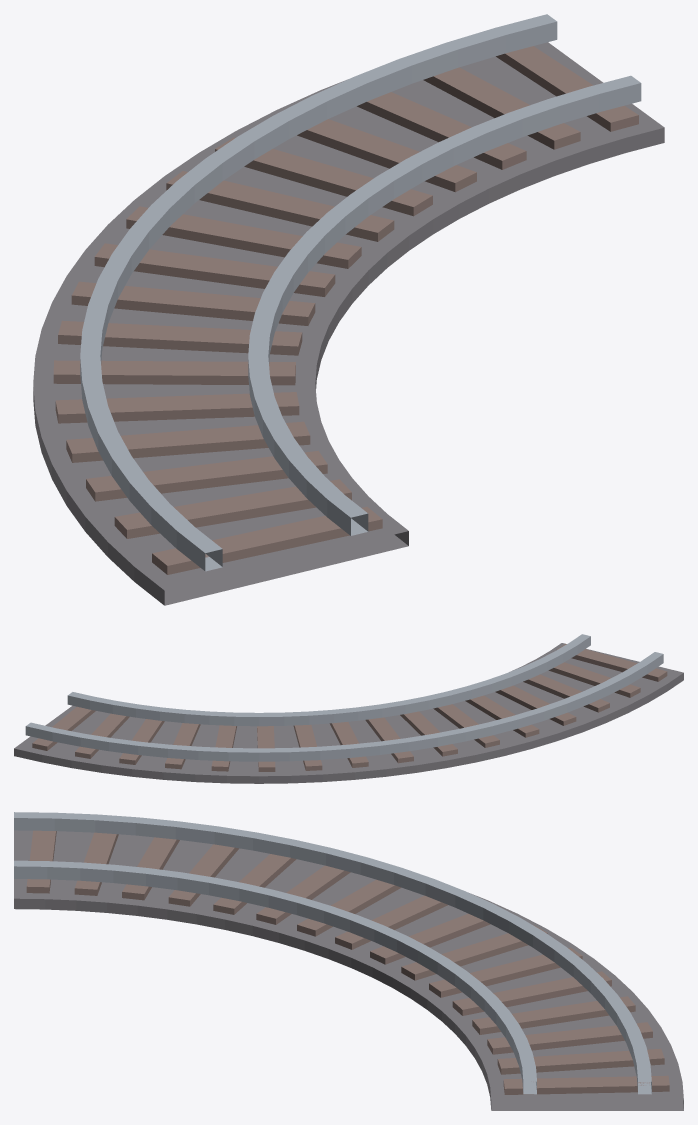
Rendered from trilho_curva_sem_textura.glb.
The picture shows the model from 3 angles, top to bottom: view 1: azimuth 30°, elevation 25°; view 2: azimuth 150°, elevation 25°; view 3: azimuth 270°, elevation 25°; orthographic projection. The views are drawn at different scales.
Parts seen in each view (by area): view 1: trilho_curva; view 2: trilho_curva; view 3: trilho_curva.
Boxes of the visible parts, x1,y1,x2,y2 form: trilho_curva: (33,14,664,605); trilho_curva: (14,634,683,783); trilho_curva: (14,812,683,1110).
Bounding box in the file's own units: 2.92 × 0.14 × 2.92.
